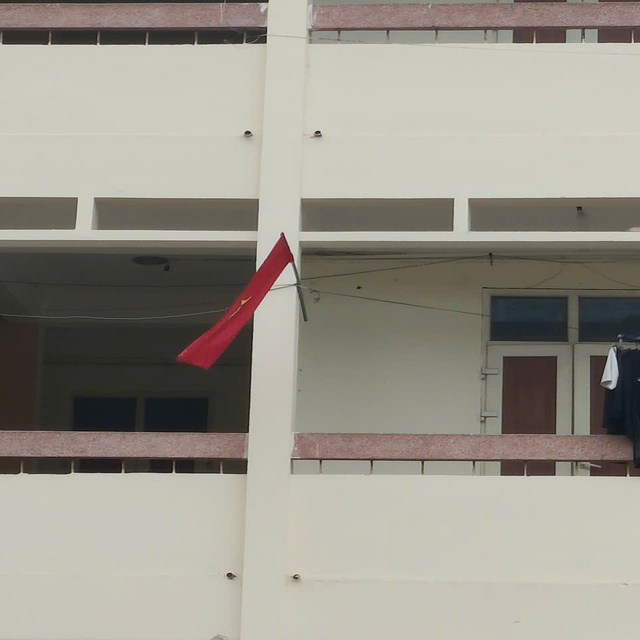laco: (167, 230, 321, 375)
